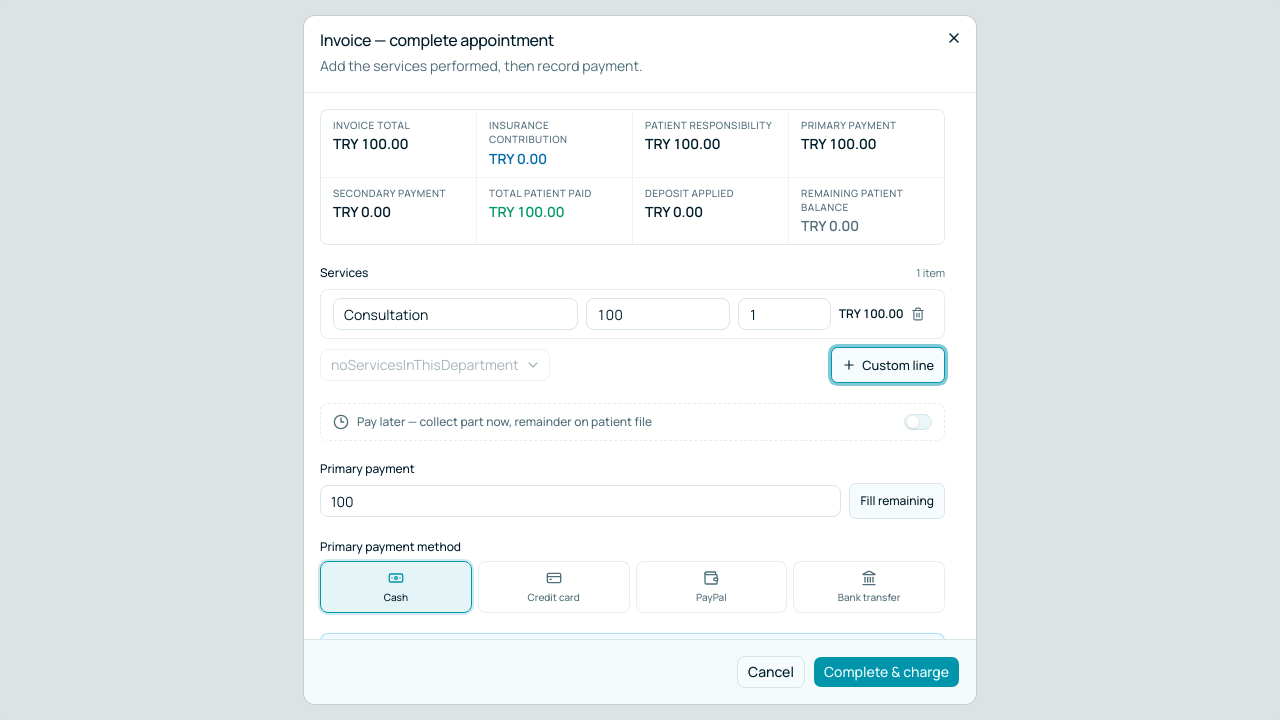
it: BillingDialog previous outstanding balance › requires previous payment method only when settling previous balance
Expected: the field showing "Consultation" is shown, x1=333 y1=298 x2=578 y2=330
Click the button "Complete & charge" at (886, 672), box x1=813 y1=656 x2=960 y2=688
(page scrolled)
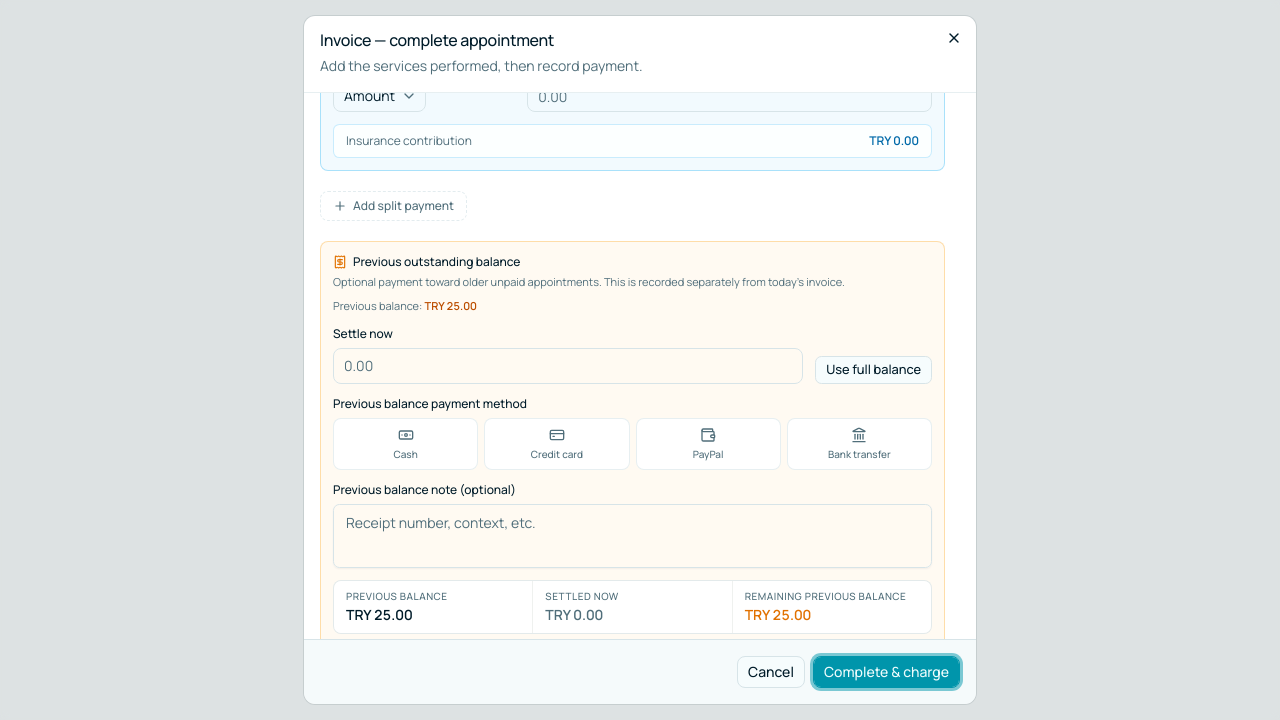
Type "10" into the number field named "Settle now" at (568, 366), box x1=333 y1=348 x2=803 y2=384
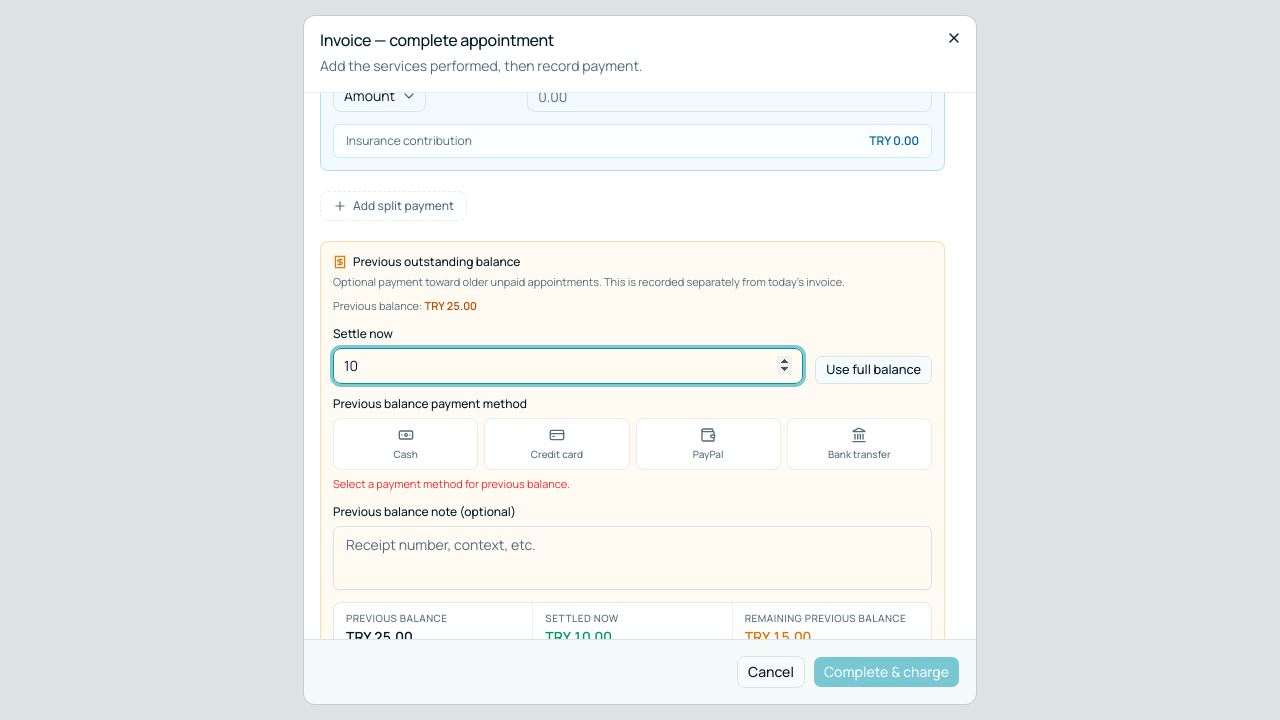
Expected: the text "Select a payment method for previous balance." is shown, x1=333 y1=476 x2=570 y2=491
Expected: the button "Complete & charge" is disabled, x1=813 y1=656 x2=960 y2=688
